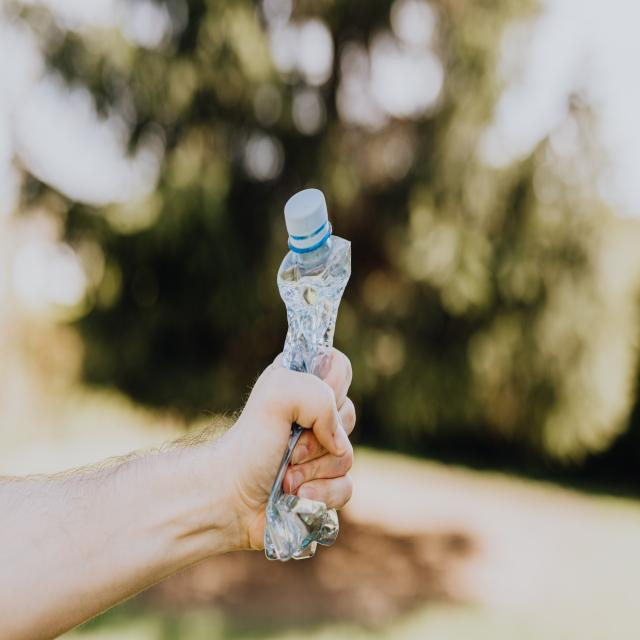plastic: (278, 200, 340, 344)
